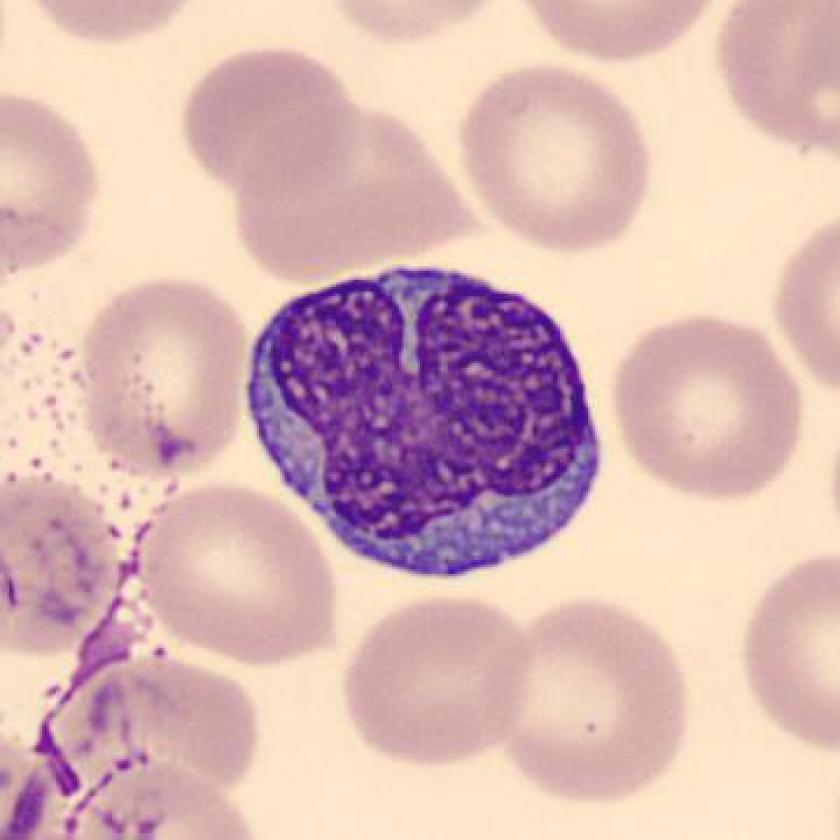monocyte: (220, 246, 617, 603)
